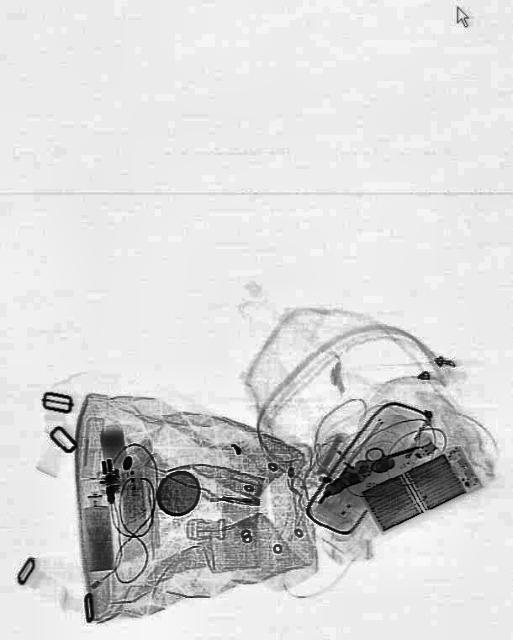Scissors: (362, 428, 432, 476)
